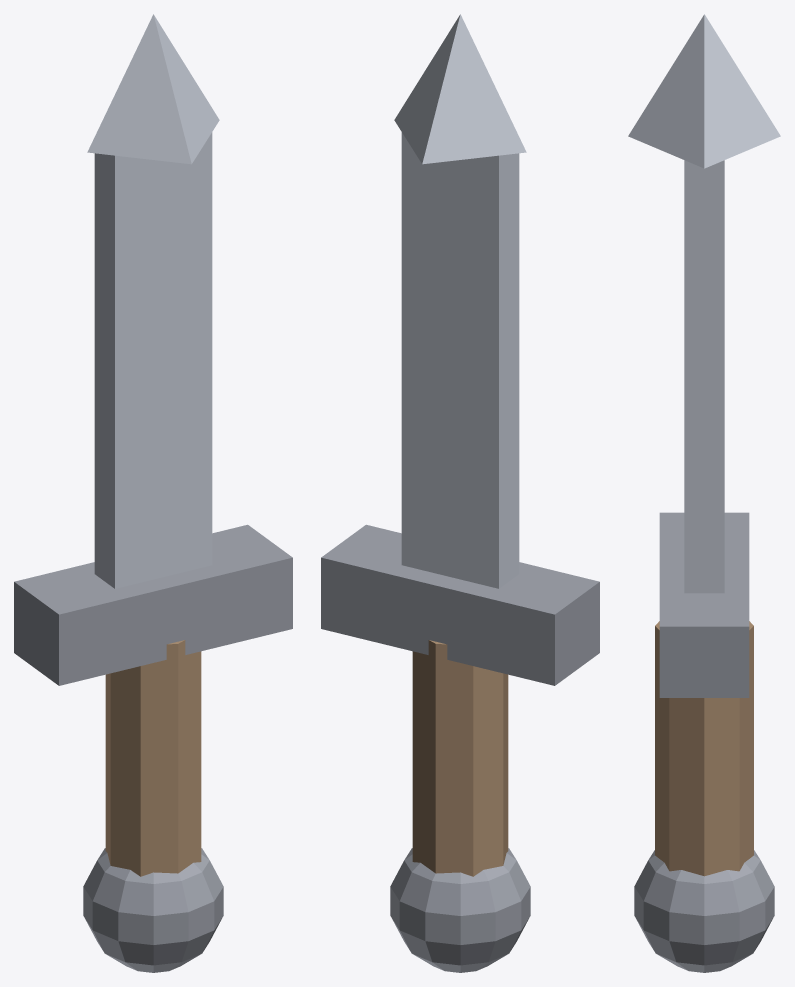
The model's file is dagger.glb.
3 renders of one model, left to right at view 1: azimuth 30°, elevation 25°; view 2: azimuth 150°, elevation 25°; view 3: azimuth 270°, elevation 25°, orthographic.
Visible parts, largest first — view 1: dagger_03, dagger_02, dagger_00, dagger_01, dagger_04; view 2: dagger_03, dagger_02, dagger_00, dagger_01, dagger_04; view 3: dagger_00, dagger_03, dagger_02, dagger_01, dagger_04.
Part boxes in pixels (box(x1,y1,x2,y2)): dagger_03: box(94, 132, 212, 588); dagger_02: box(14, 524, 292, 685); dagger_00: box(105, 640, 201, 876); dagger_01: box(83, 848, 223, 972); dagger_04: box(87, 14, 219, 164); dagger_03: box(401, 132, 519, 588); dagger_02: box(321, 524, 599, 685); dagger_00: box(412, 640, 508, 876); dagger_01: box(390, 848, 530, 972); dagger_04: box(394, 14, 526, 164); dagger_00: box(655, 621, 753, 876); dagger_03: box(684, 160, 724, 593); dagger_02: box(659, 512, 749, 697); dagger_01: box(634, 850, 774, 972); dagger_04: box(628, 14, 780, 168).
Size of the model in its own units: 0.12 by 0.467 by 0.068.
